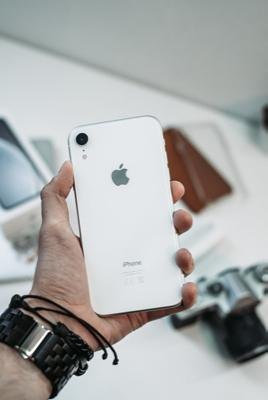cell-phone: (66, 113, 192, 319)
